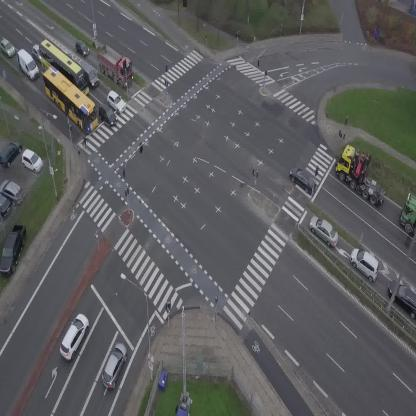bicycle: (81, 135, 89, 149)
bus: (33, 65, 107, 135), (30, 37, 98, 99)
car: (55, 311, 93, 361), (98, 340, 132, 390), (344, 244, 386, 283), (304, 211, 345, 249), (284, 163, 321, 196), (94, 102, 121, 129), (103, 89, 129, 115), (81, 60, 101, 88), (71, 37, 92, 59), (0, 37, 18, 59), (31, 44, 40, 63), (63, 48, 72, 57)
lorry: (326, 140, 402, 209), (88, 39, 142, 90), (11, 47, 43, 83), (400, 194, 416, 235)
